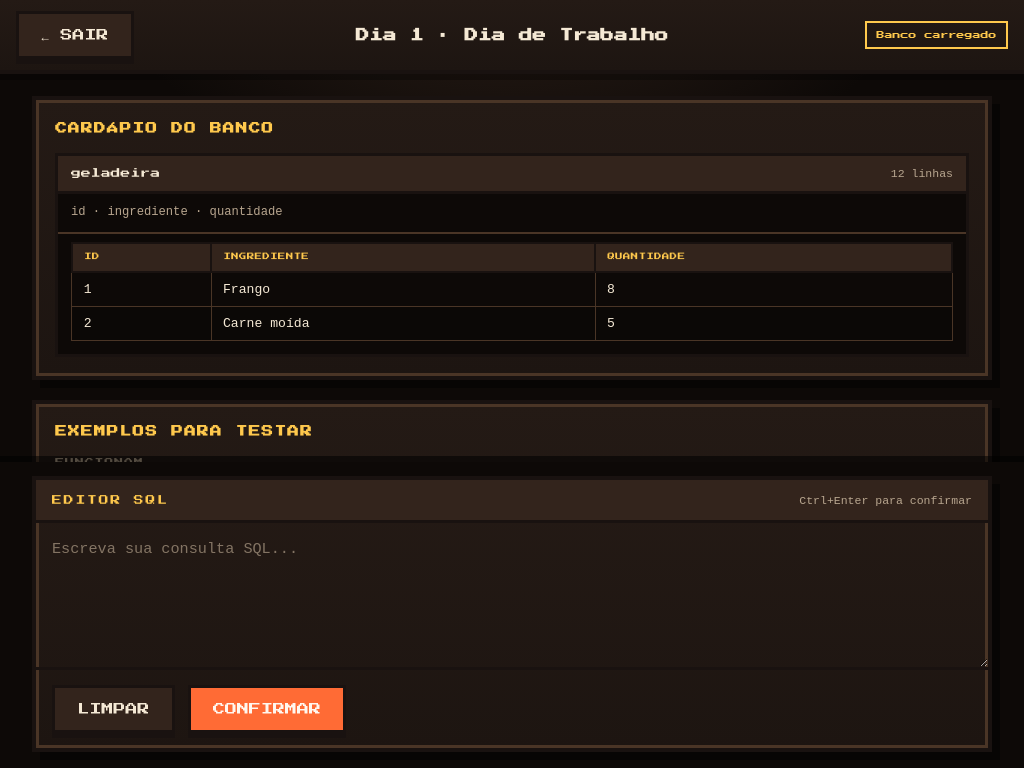
Test case: GameScreen › shows the friendly error message for a failing query
Expected: the heading "Cardápio do banco" is shown, [55,122,274,134]
Type "SELECT * FROM geladeiraa" into the text box labelled "Editor SQL". click: (512, 595)
box: [36,523,988,667]
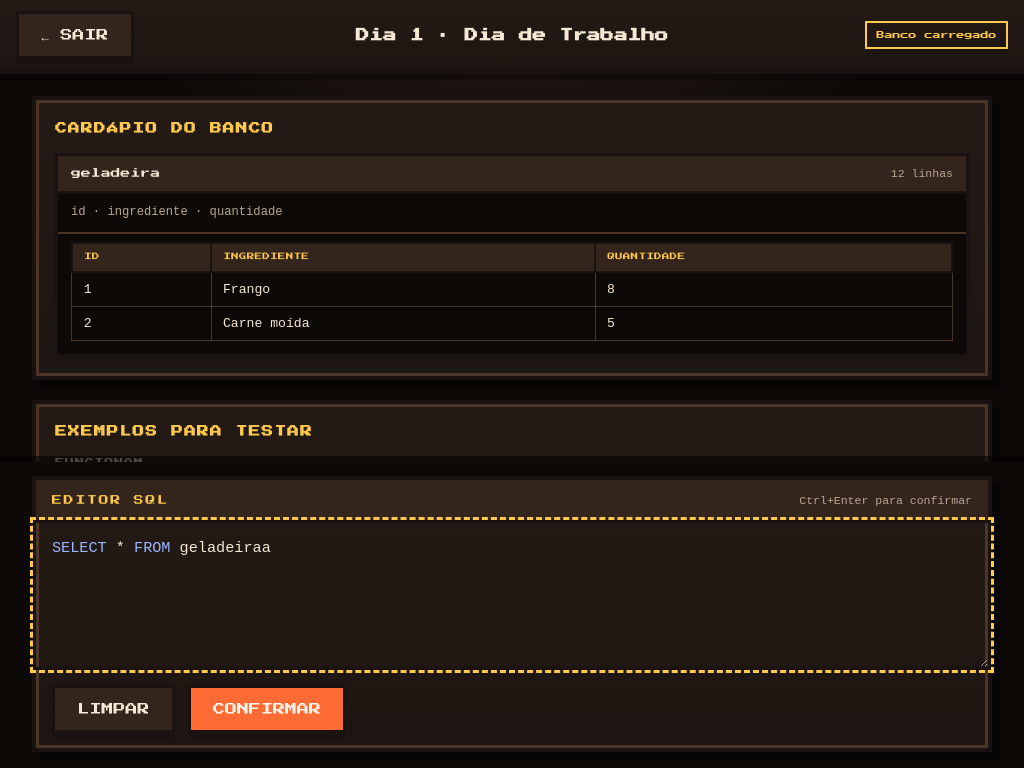
Click the button "Confirmar". click: click(267, 709)
box: [188,685,346,733]
(page scrolled)
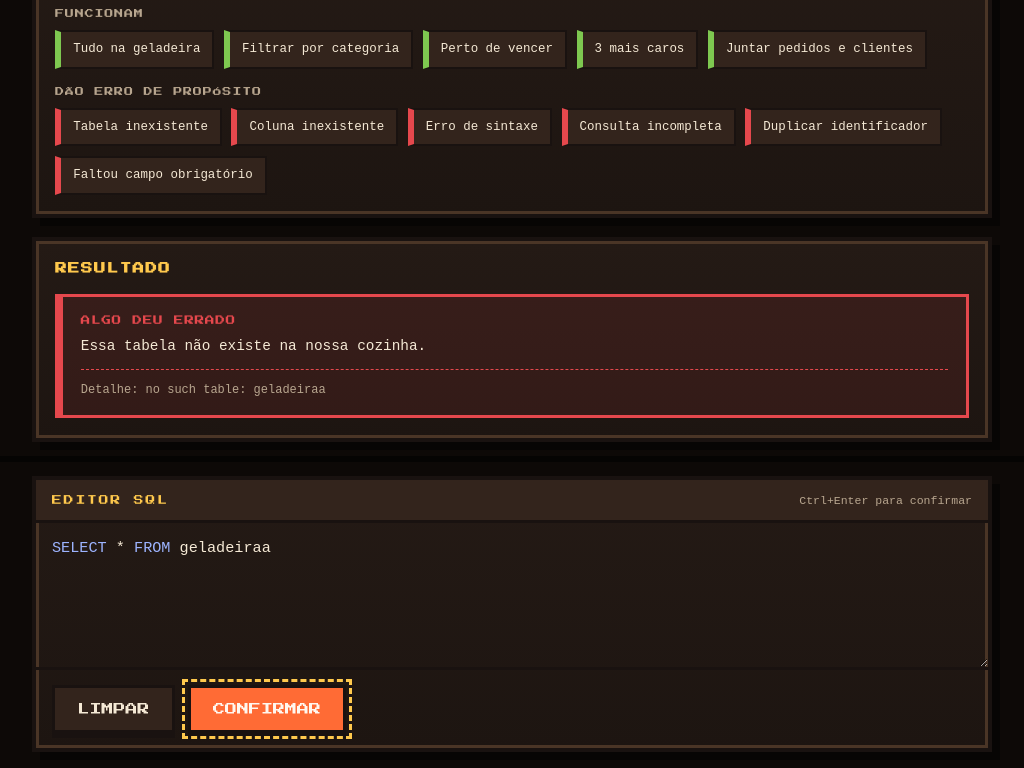
Expected: the message is shown, [55,294,969,418]
Expected: the text "Essa tabela não existe na nossa cozinha." is shown, [81,338,426,354]
Expected: the text "Detalhe: no such table: geladeiraa" is shown, [81,369,948,399]
